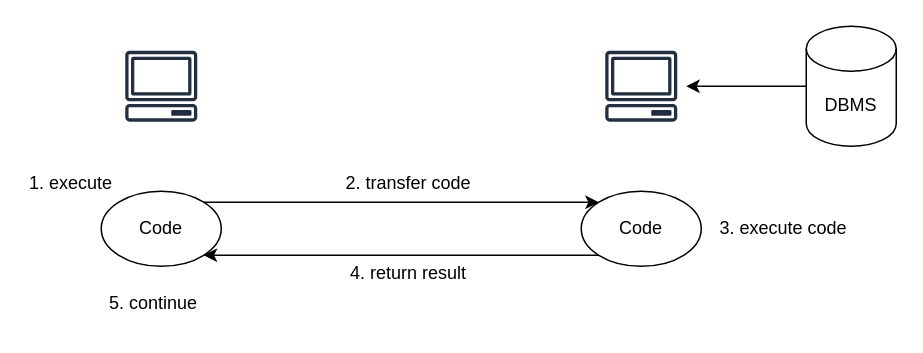
Some shapes in this 923 by 353 pixel diagram are drawn without their labels. Each missing label, with the box of its shape:
Client: (115, 40, 206, 131)
Server: (595, 40, 686, 131)
